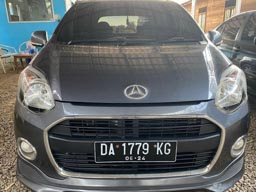plat: (94, 141, 176, 156)
